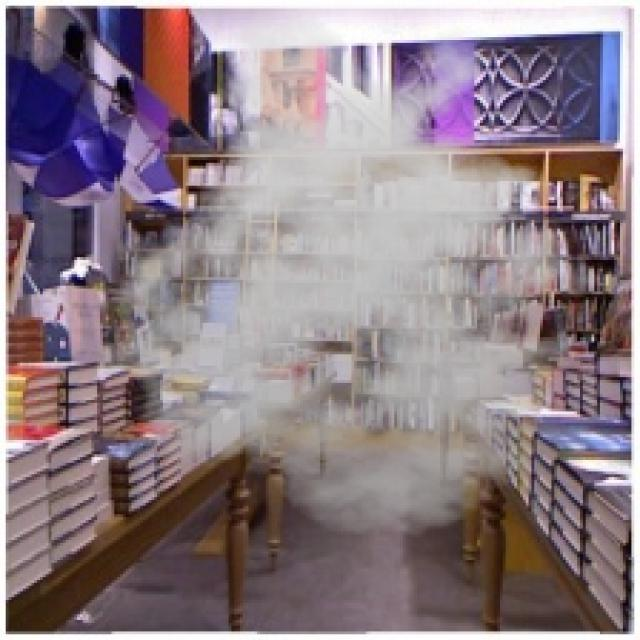smoke: (83, 9, 631, 537)
